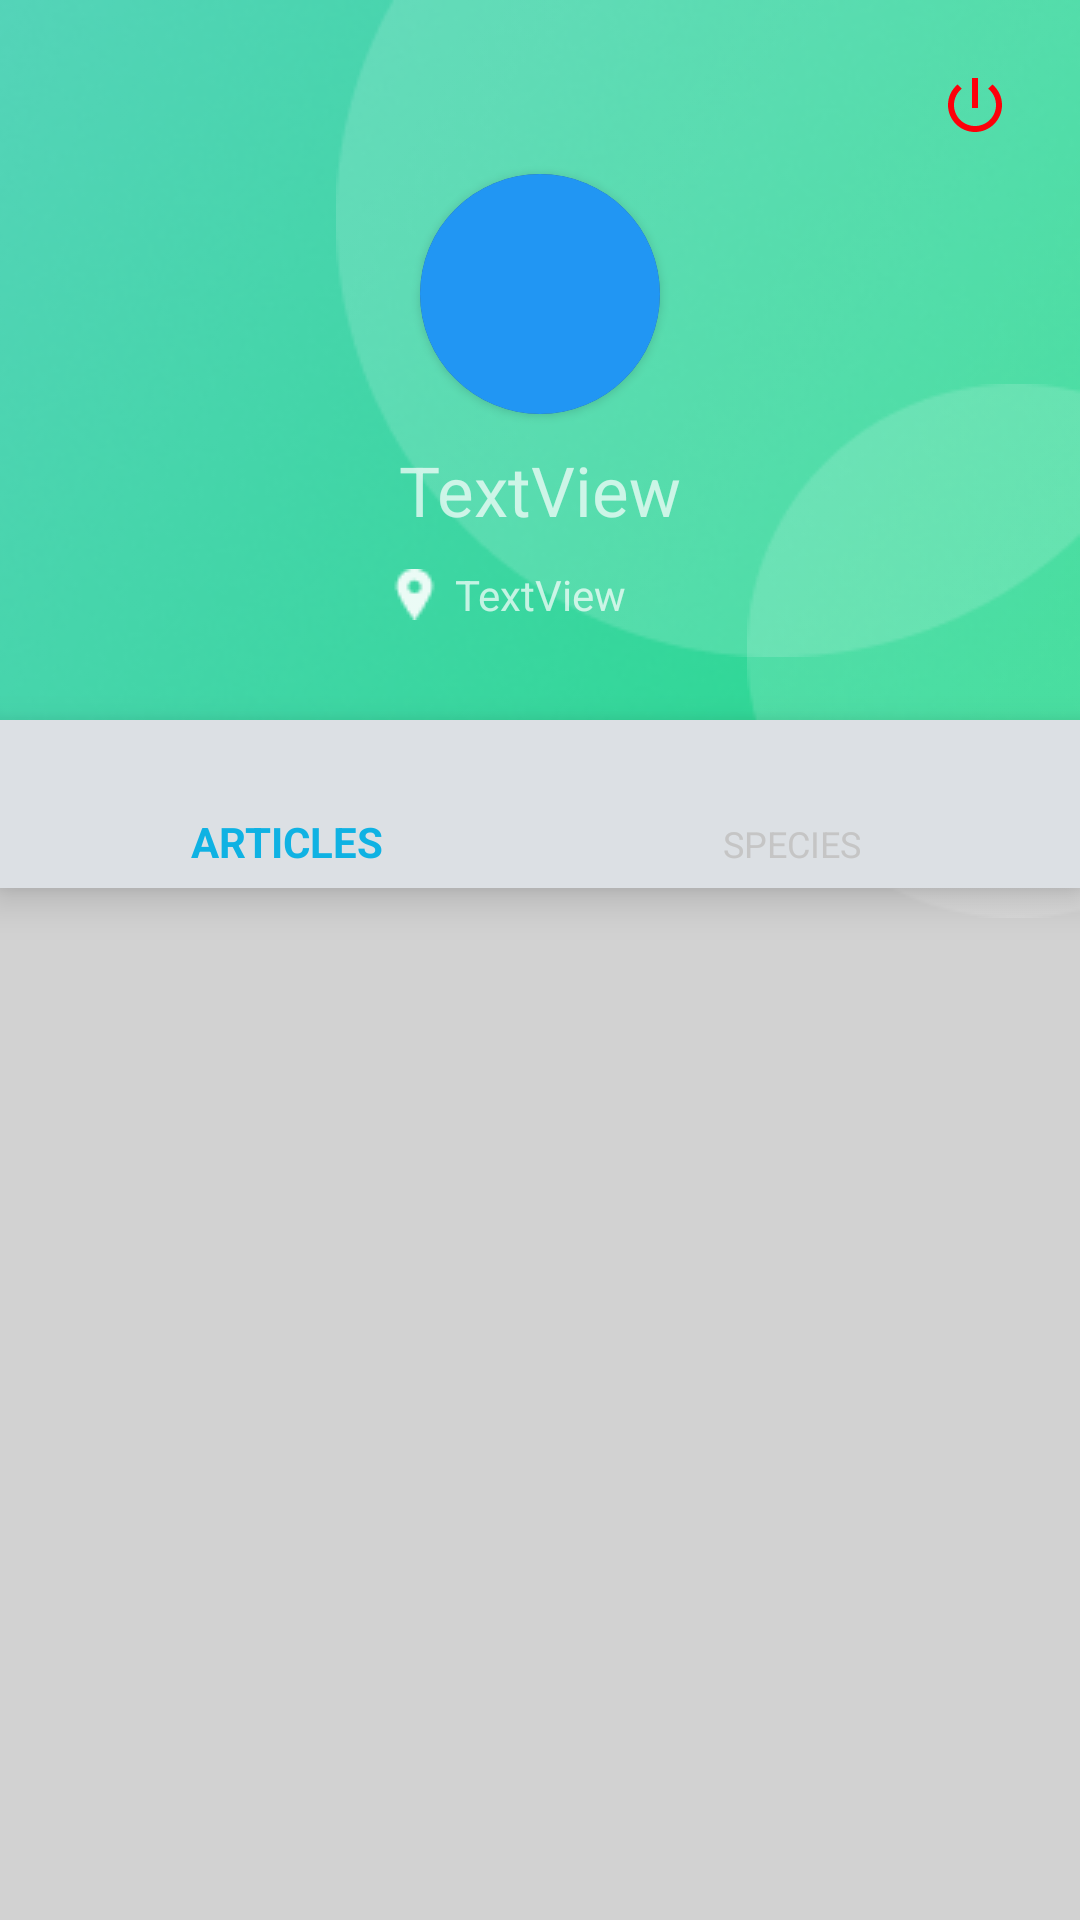

Named icons in this screenshot (1080×1920) and their bounding boxes, (left=x1, top=y1, right=x2, bottom=y2):
location sign: (left=395, top=569, right=434, bottom=620)
power settings: (left=948, top=78, right=1002, bottom=132)
